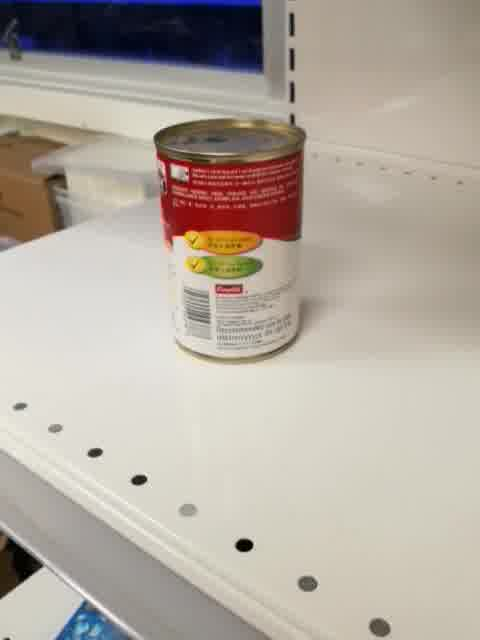tomatosoup: (151, 116, 308, 365)
